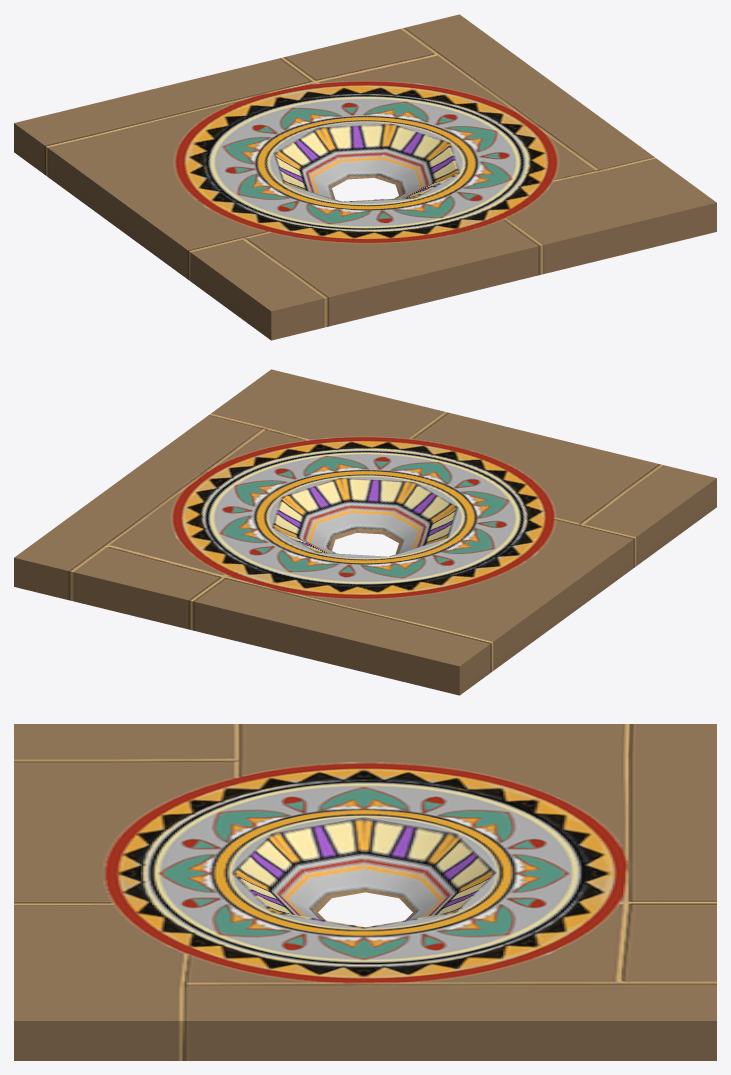
File: egypt_hole.gltf
3 renders of one model, top to bottom at view 1: azimuth 30°, elevation 25°; view 2: azimuth 150°, elevation 25°; view 3: azimuth 270°, elevation 25°, orthographic. The views are drawn at different scales.
Visible parts, largest first — view 1: egypt_hole_glb; view 2: egypt_hole_glb; view 3: egypt_hole_glb.
Boxes of the visible parts, x1,y1,x2,y2 form: egypt_hole_glb: (14, 14, 716, 340); egypt_hole_glb: (14, 369, 716, 695); egypt_hole_glb: (14, 724, 716, 1060).
Size of what is drawn, in the model's own units: 4 by 0.25 by 4.
1 material, 1 textured.
